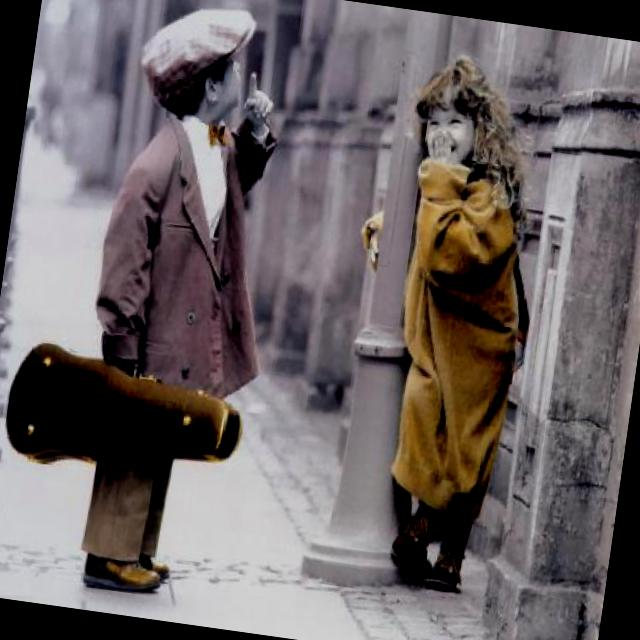Person: (0, 0, 339, 631), (297, 26, 581, 640)
